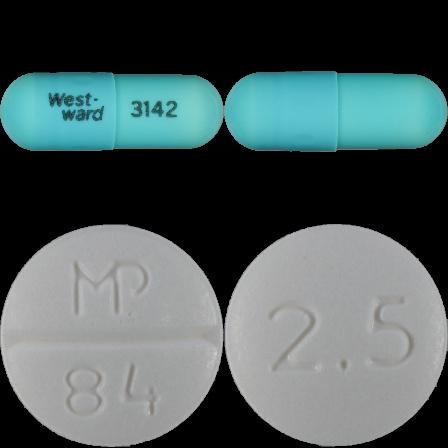68151-2022: (0, 0, 224, 224)
